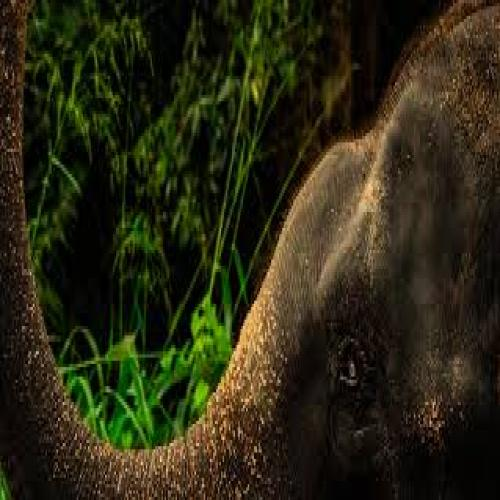asian_elephant-endangered: (8, 8, 493, 488)
